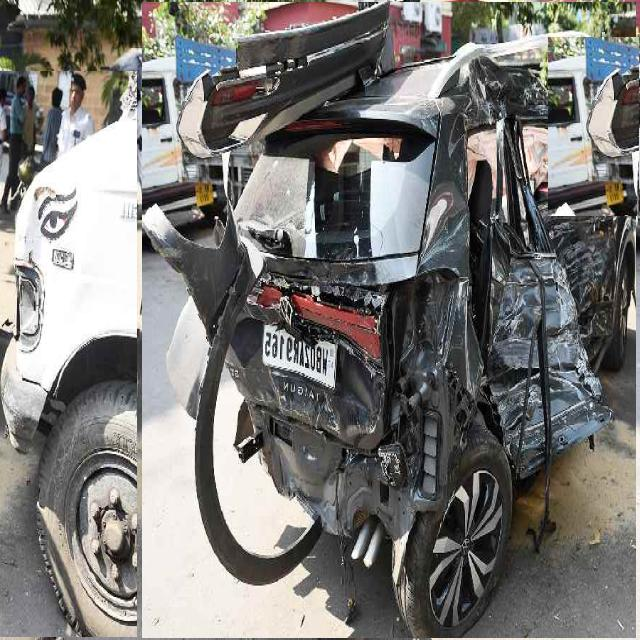accident: (142, 2, 636, 638), (602, 32, 605, 42)
bus: (0, 71, 137, 637), (112, 49, 195, 152)
truck: (548, 38, 640, 216)
